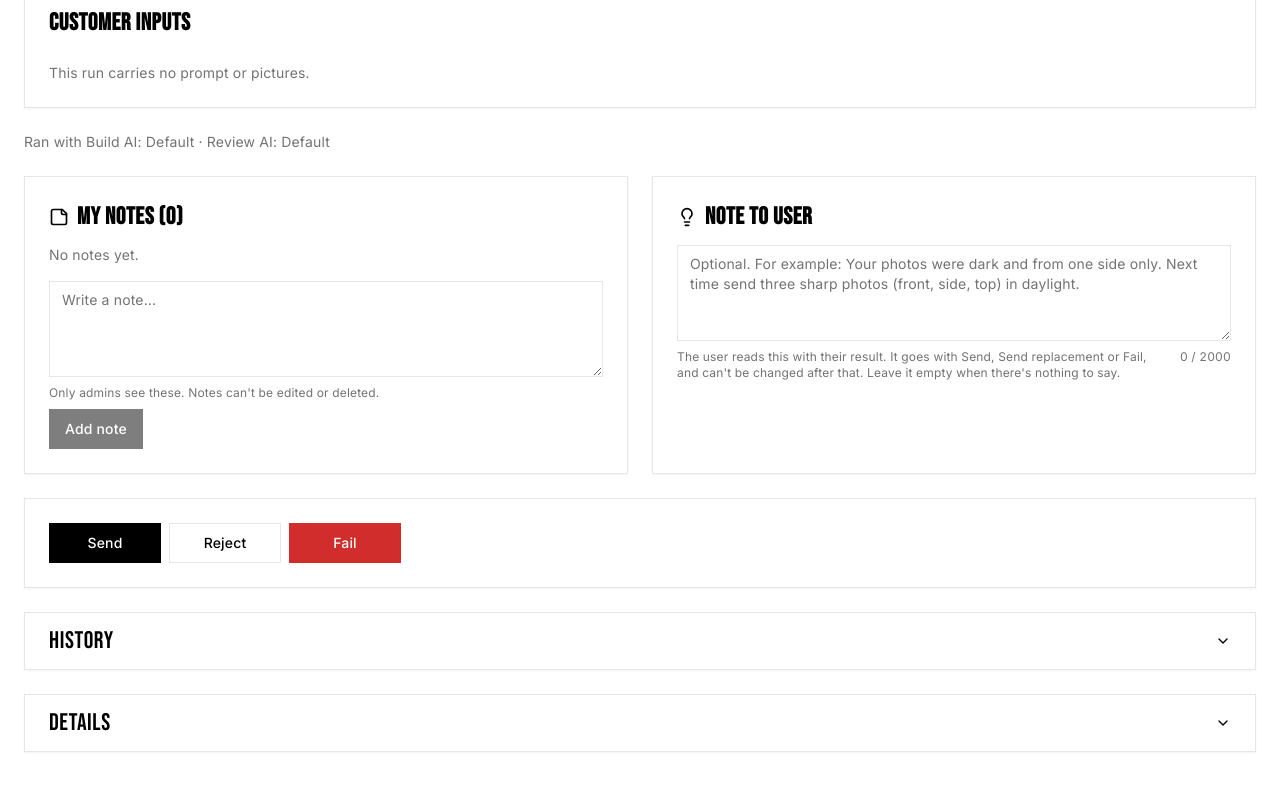
Scenario: AdminCadQueueDetailPage › polls every 5 s after an accepted action, stops after 2 minutes and on unmount
(page scrolled)
Click the button "Reject" at (225, 543), box [169,523,281,563]
Wait 155000 ms
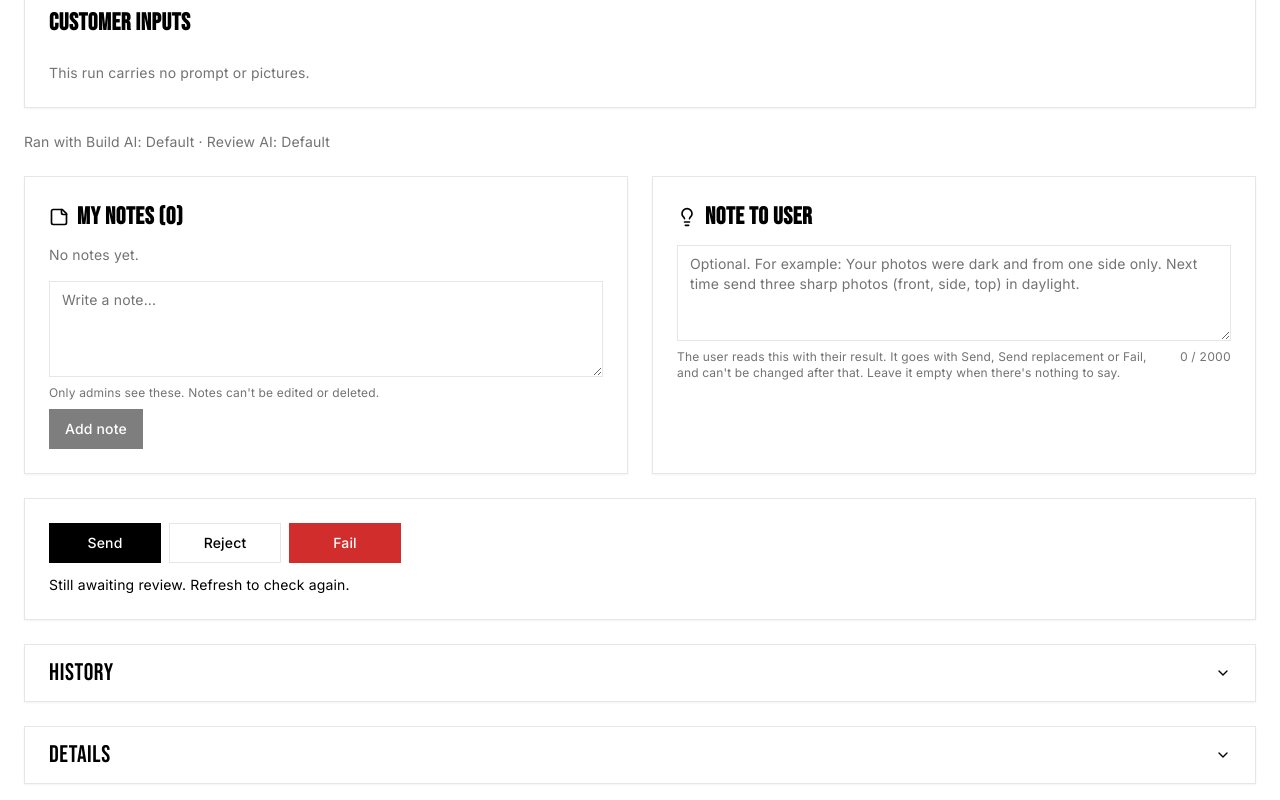
Expected: the text "Still awaiting review. Refresh to check again." is shown, [49,576,350,593]
